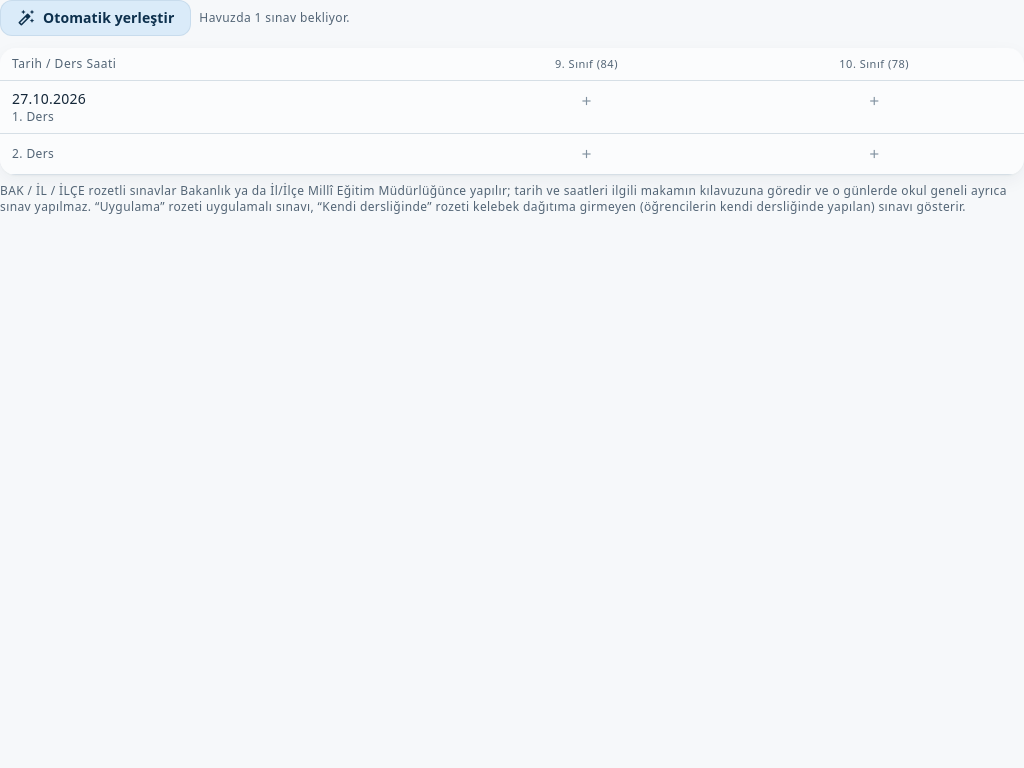
Test: TakvimYerlestirmePaneli › sert ret (400) uyarı bandına değil hata snackbar'ına düşer
Step 1. Click the button named "27.10.2026 1. Ders 9. Sınıf sınav yerleştir" → (586, 101), box [570, 85, 602, 117]
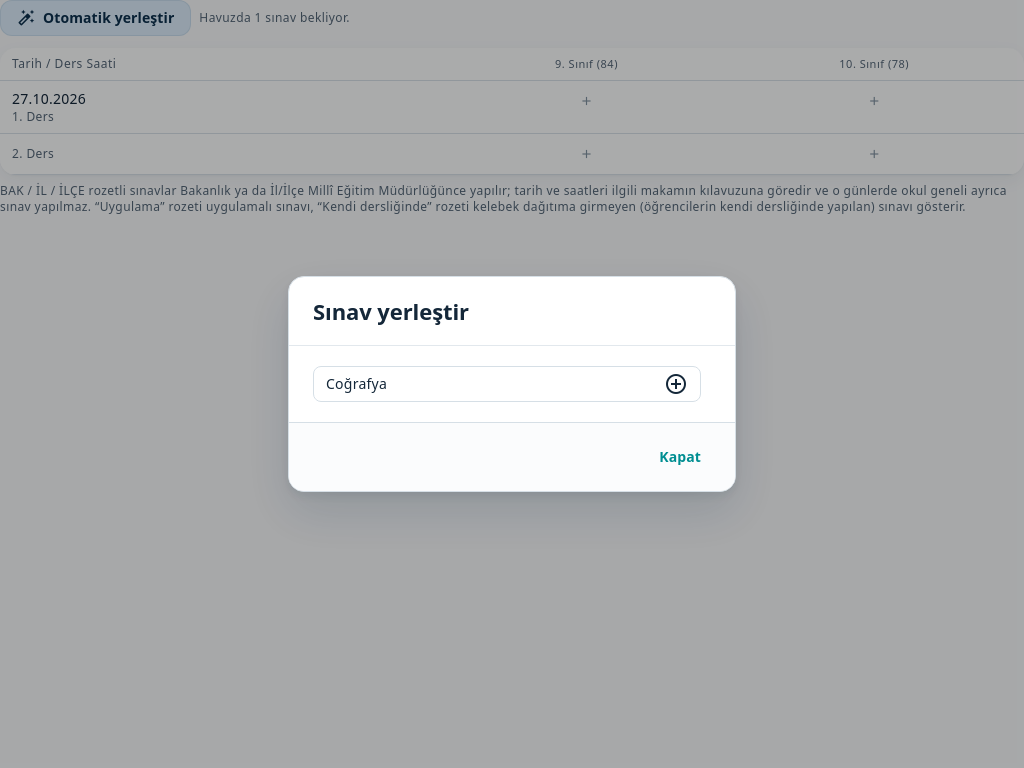
Step 2. Click the button "Coğrafya" → (357, 384), box [313, 366, 701, 402]
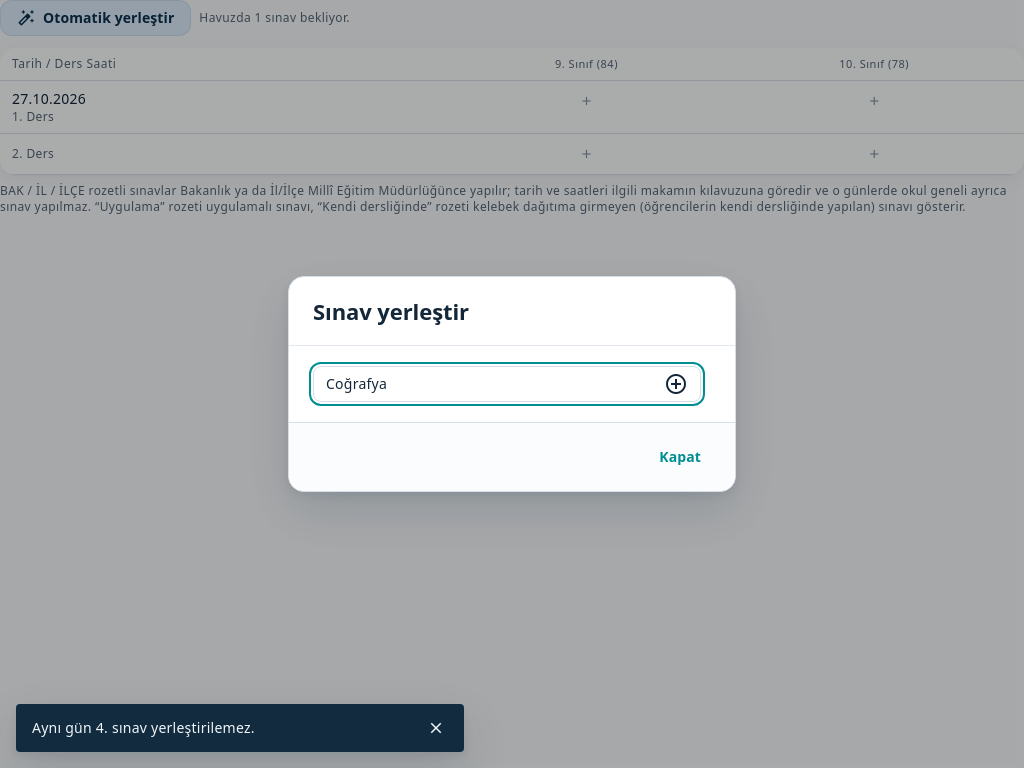
Now the text "Aynı gün 4. sınav yerleştirilemez." is shown, box [32, 718, 255, 737]
